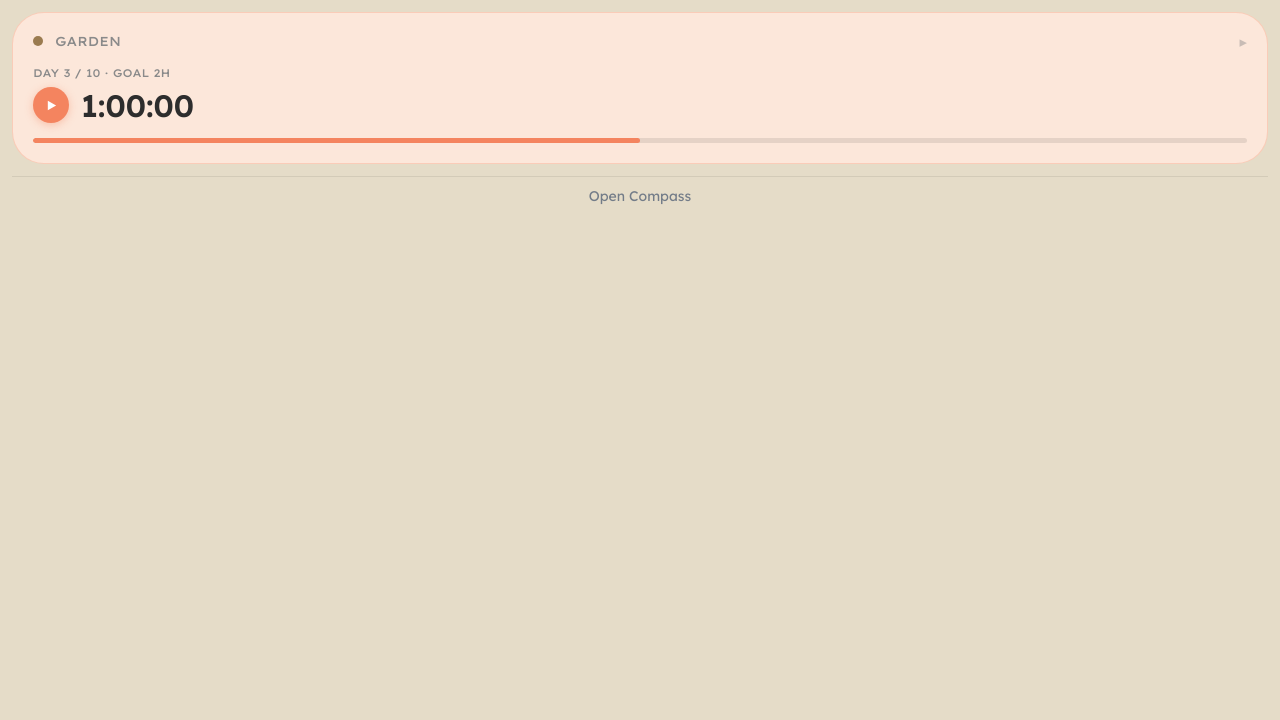
the companion's summary › with no tasks, or none open, it says so
Click the button "▸" at (1243, 41), box [1240,34,1247,49]
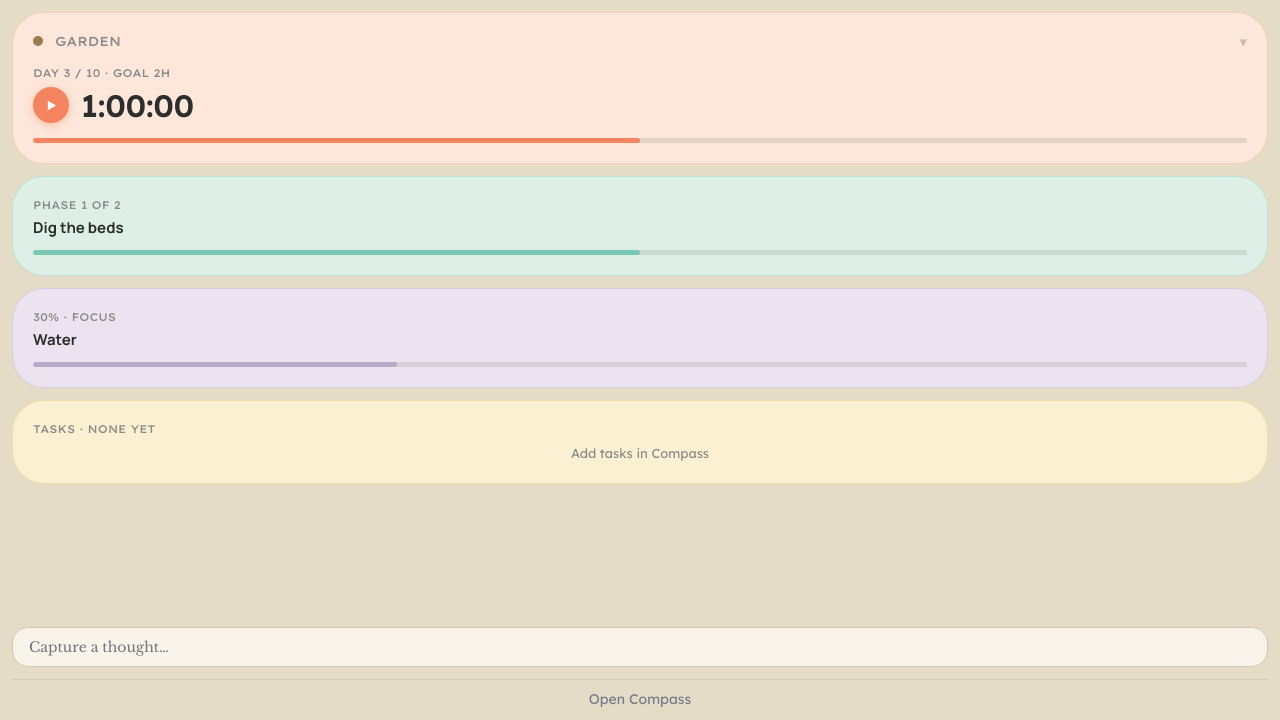
Expected: the element with class "companion" shows "Add tasks in Compass", [571,445,709,461]
Click the button "▾" at (1243, 41), box [1240,34,1247,49]
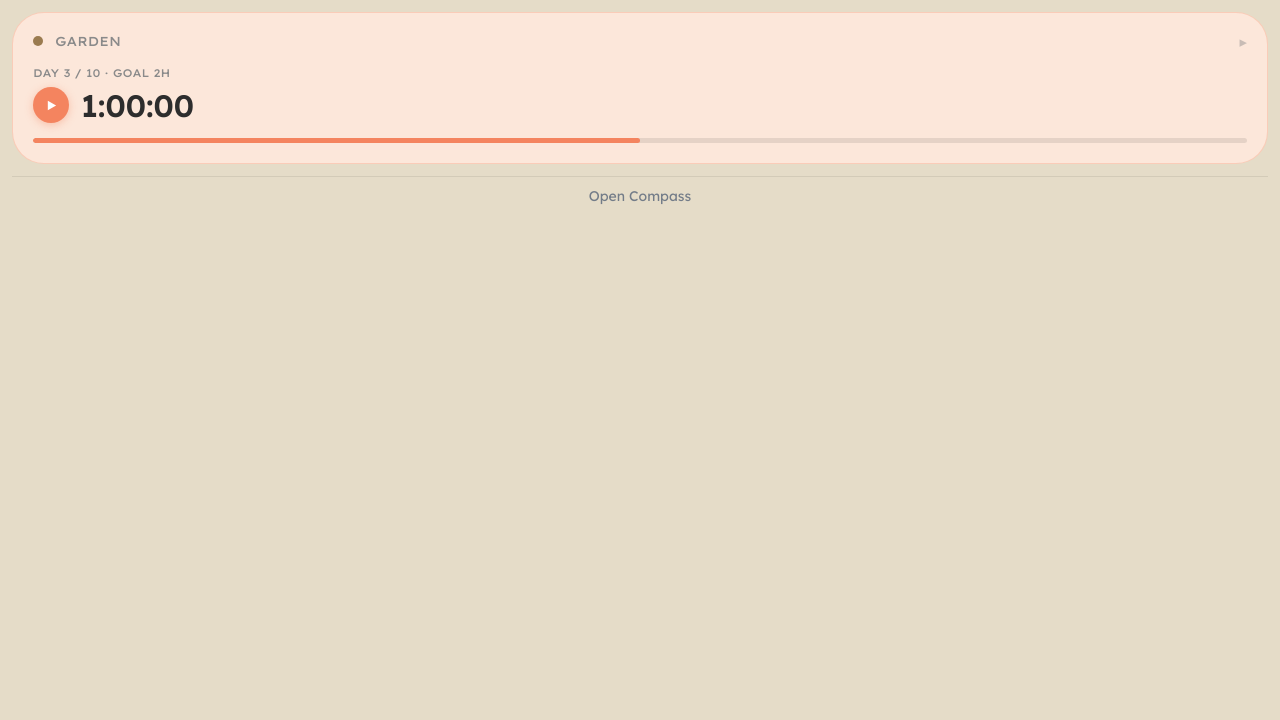
Click the button "▸" at (1243, 41), box [1240,34,1247,49]
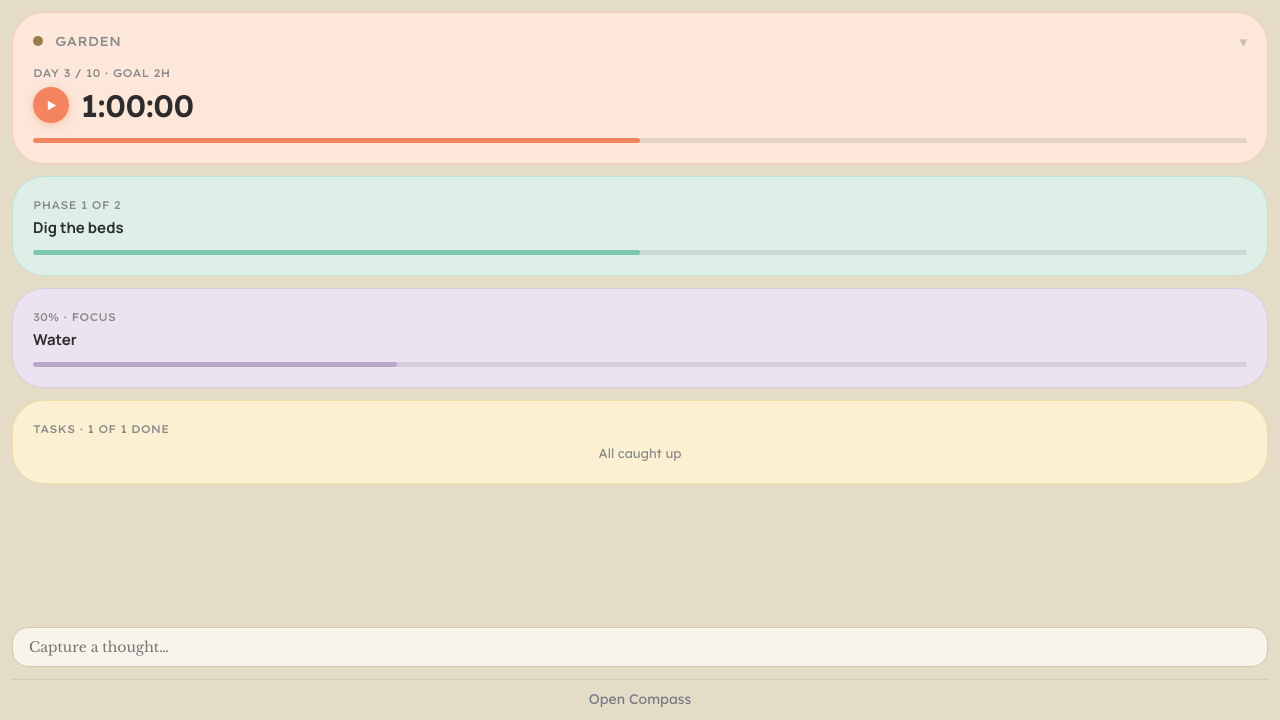
Expected: the element with class "companion" shows "All caught up", [598,445,681,461]
